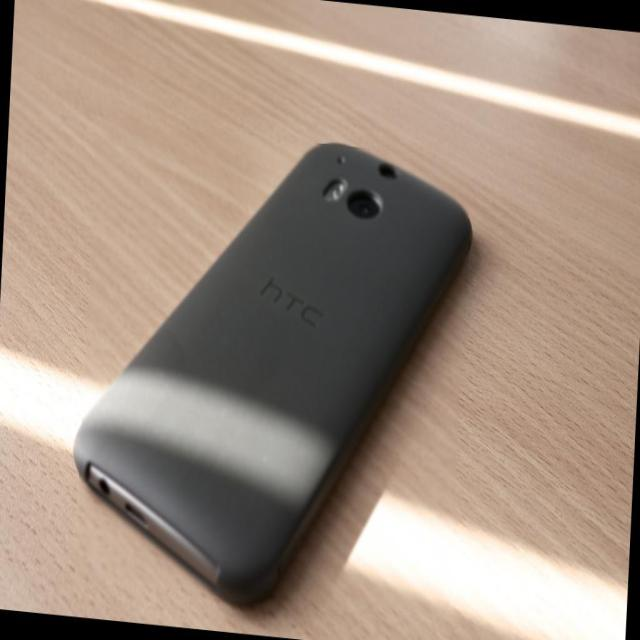handphone: (80, 134, 469, 592)
